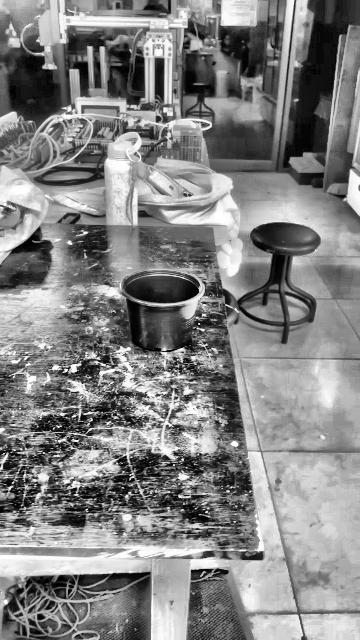pot: (120, 270, 202, 351)
